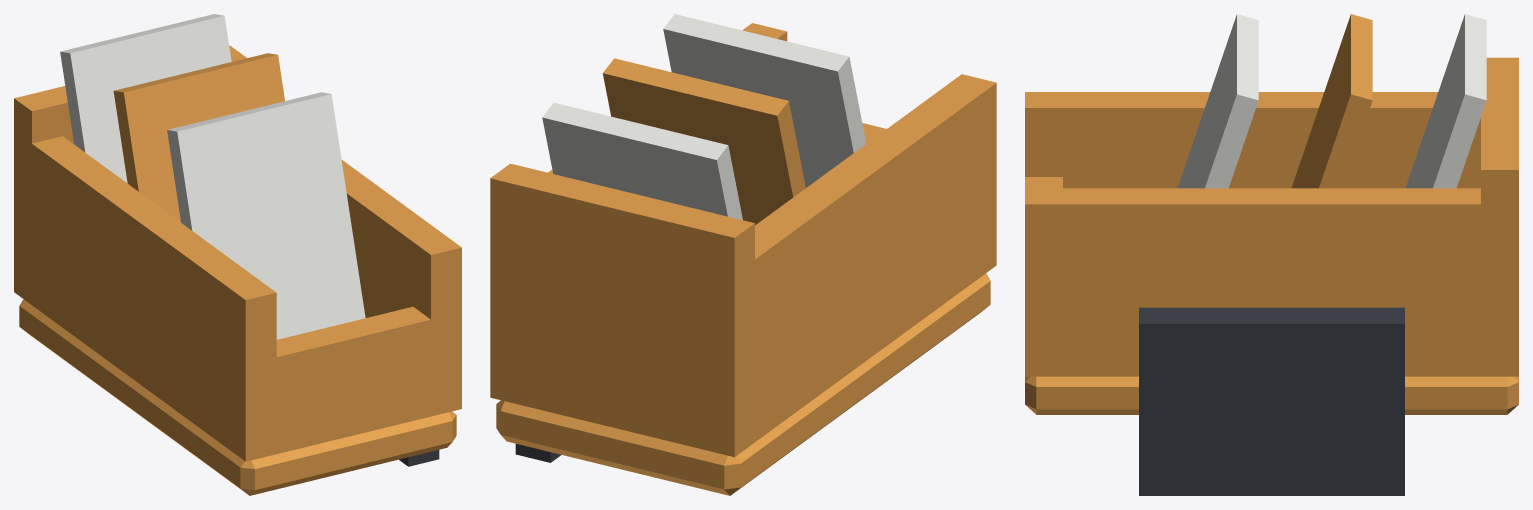
File: autoreply_m0_1.glb
3 renders of one model, left to right at view 1: azimuth 30°, elevation 25°; view 2: azimuth 150°, elevation 25°; view 3: azimuth 270°, elevation 25°, orthographic. The views are drawn at different scales.
Visible parts, largest first — view 1: autoreply_m0_1_mesh; view 2: autoreply_m0_1_mesh; view 3: autoreply_m0_1_mesh.
Boxes of the visible parts, <box> form: autoreply_m0_1_mesh: <box>14,14,461,495</box>; autoreply_m0_1_mesh: <box>490,14,996,495</box>; autoreply_m0_1_mesh: <box>1025,14,1518,495</box>.
Size of the model in its own units: 0.16 by 0.2146 by 0.26.
